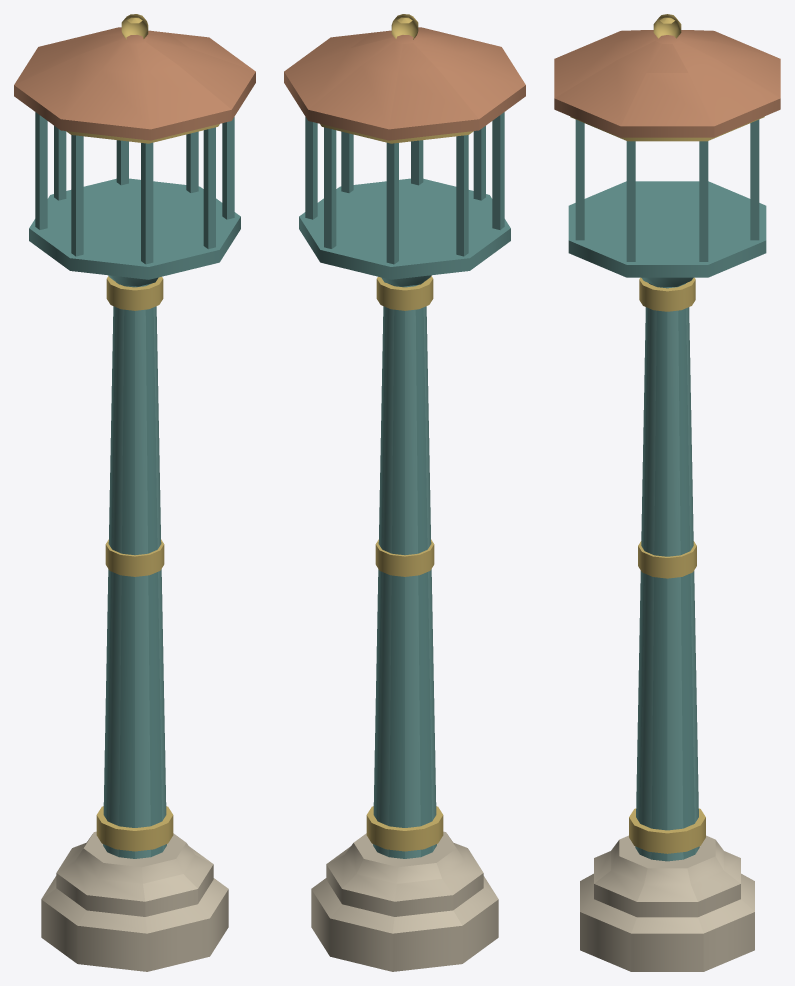
Rendered from lamp_post.glb.
3 views of the same model, side by side, from view 1: azimuth 30°, elevation 25°; view 2: azimuth 150°, elevation 25°; view 3: azimuth 270°, elevation 25° (orthographic).
Visible parts, largest first — view 1: lamp_post; view 2: lamp_post; view 3: lamp_post.
Boxes of the visible parts, left/top/right/bottom form: lamp_post: left=14, top=14, right=255, bottom=971; lamp_post: left=284, top=14, right=525, bottom=971; lamp_post: left=554, top=14, right=780, bottom=971.
Size of the model in its own units: 4 by 17.96 by 4.
